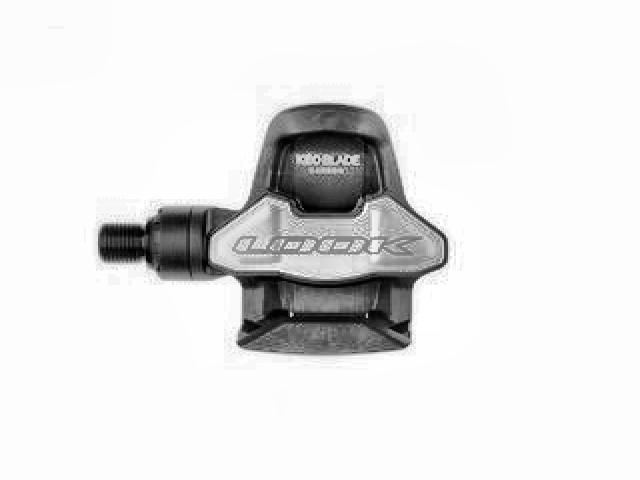pedal: (97, 100, 453, 361)
